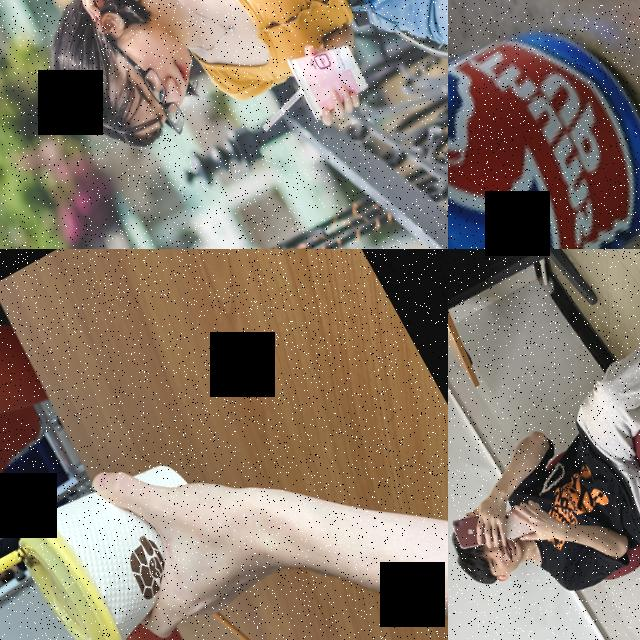can: (448, 0, 640, 249)
cup: (0, 434, 246, 640), (279, 28, 376, 130)
